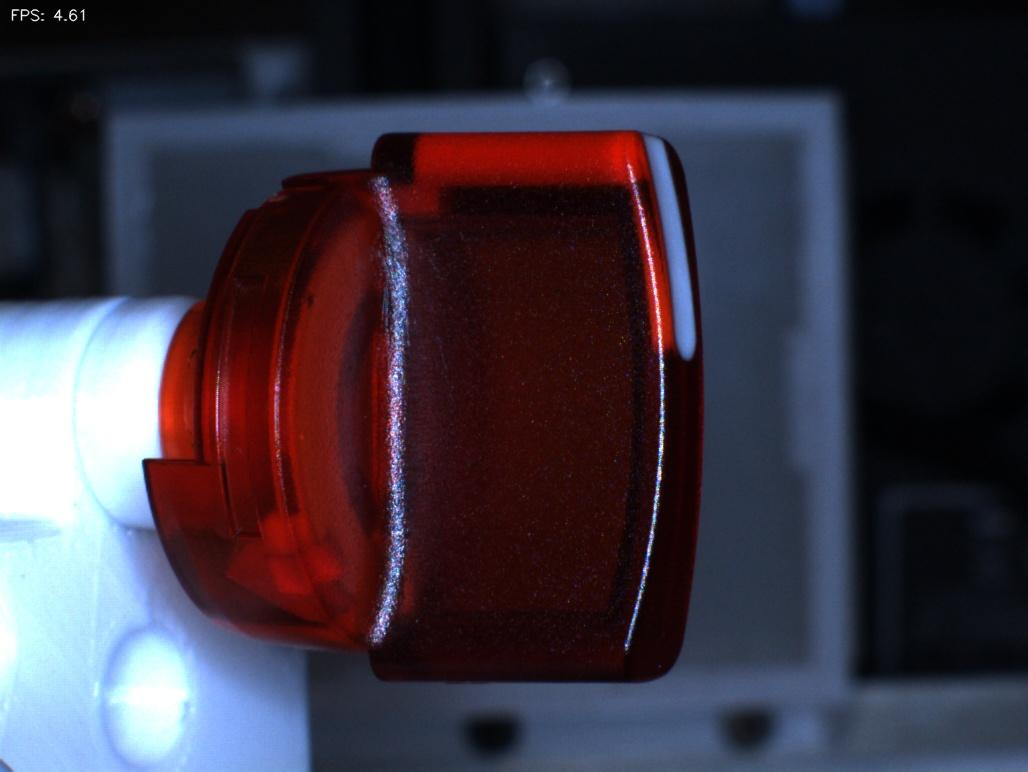Givrage: (361, 228, 463, 386)
